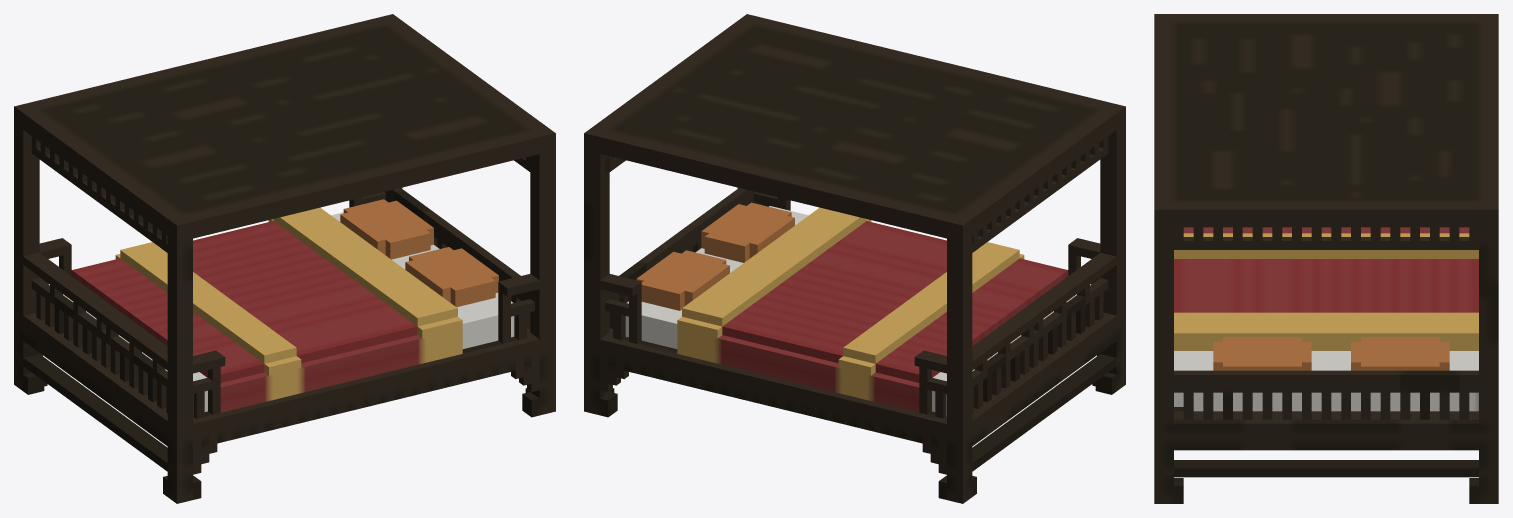
File: Captain_Bed_00.fbx
3 renders of one model, left to right at view 1: azimuth 30°, elevation 25°; view 2: azimuth 150°, elevation 25°; view 3: azimuth 270°, elevation 25°, orthographic. The views are drawn at different scales.
Parts seen in each view (by area): view 1: Captain_Bed_00; view 2: Captain_Bed_00; view 3: Captain_Bed_00.
Part boxes in pixels (left/top/right/bottom): Captain_Bed_00: left=14, top=14, right=555, bottom=503; Captain_Bed_00: left=584, top=14, right=1125, bottom=503; Captain_Bed_00: left=1154, top=14, right=1498, bottom=503.
Bounding box in the file's own units: 235 × 165 × 175.
